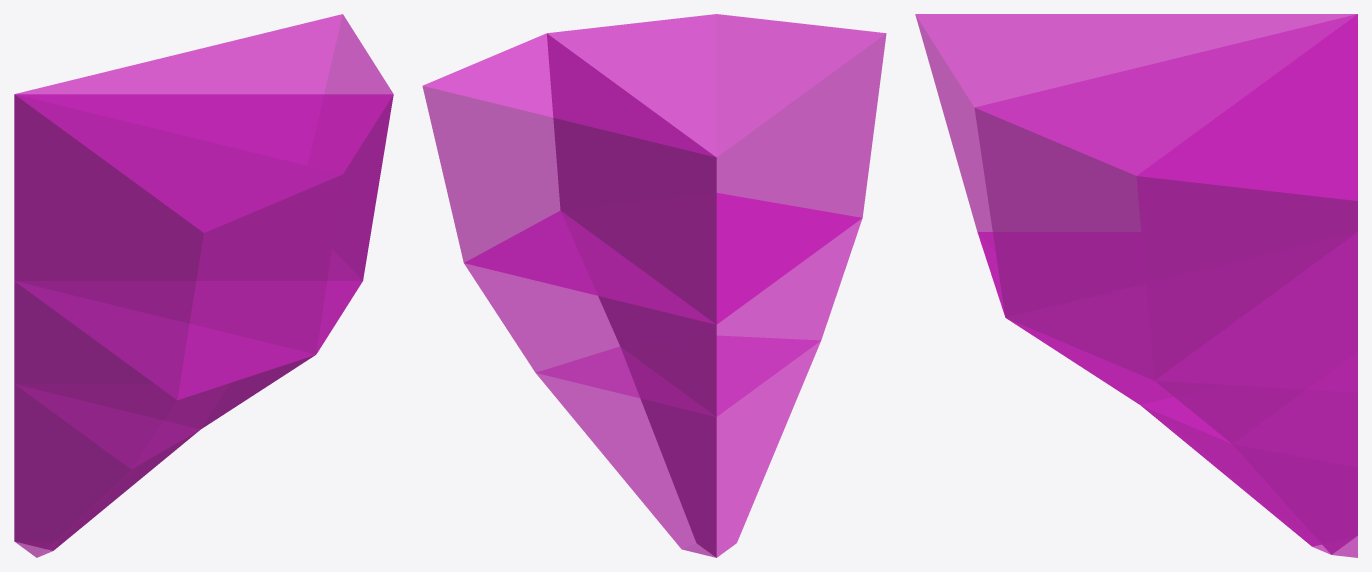
File: SM_Bld_Wall_L_Curve_Base_01_Collision.fbx
3 views of the same model, side by side, from view 1: azimuth 30°, elevation 25°; view 2: azimuth 150°, elevation 25°; view 3: azimuth 270°, elevation 25° (orthographic). The views are drawn at different scales.
Visible parts, largest first — view 1: SM_Bld_Wall_L_Curve_Base_01_Collision; view 2: SM_Bld_Wall_L_Curve_Base_01_Collision; view 3: SM_Bld_Wall_L_Curve_Base_01_Collision.
Part boxes in pixels (x1=…): SM_Bld_Wall_L_Curve_Base_01_Collision: x1=14, y1=14, x2=393, y2=557; SM_Bld_Wall_L_Curve_Base_01_Collision: x1=422, y1=14, x2=886, y2=557; SM_Bld_Wall_L_Curve_Base_01_Collision: x1=915, y1=14, x2=1357, y2=557.
Size of the model in its own units: 304 by 395 by 304.
